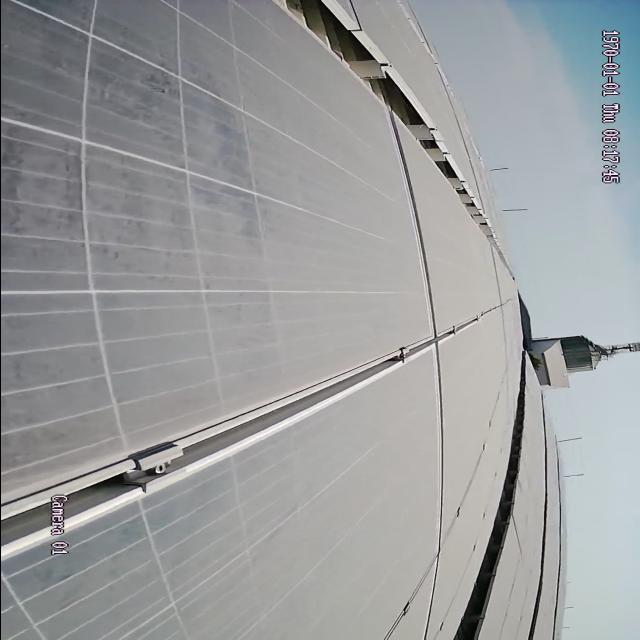interior panel: (18, 308, 481, 555), (386, 131, 449, 601)
outher panel: (264, 5, 503, 256), (444, 372, 531, 632)
